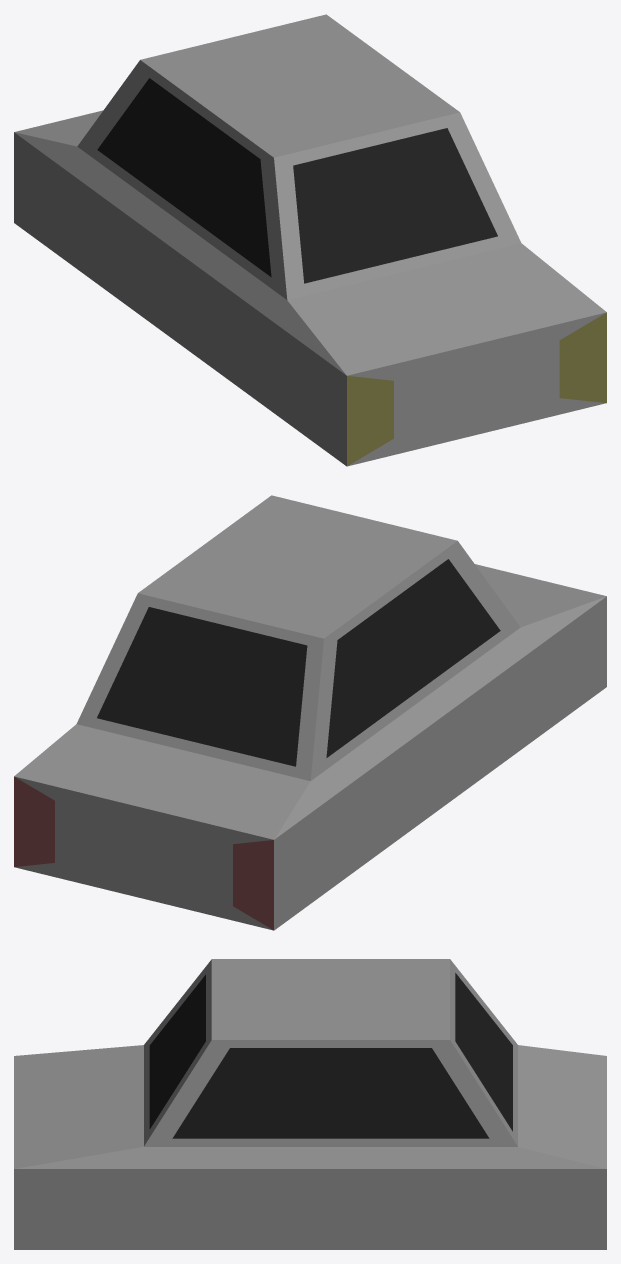
The model's file is GreyCar.fbx.
3 views of the same model, one above another, from view 1: azimuth 30°, elevation 25°; view 2: azimuth 150°, elevation 25°; view 3: azimuth 270°, elevation 25° (orthographic). The views are drawn at different scales.
Parts seen in each view (by area): view 1: Cube; view 2: Cube; view 3: Cube.
Part boxes in pixels (<box>): Cube: <box>14,14,606,466</box>; Cube: <box>14,495,606,930</box>; Cube: <box>14,959,606,1249</box>.
Size of the model in its own units: 230 by 184 by 509.
